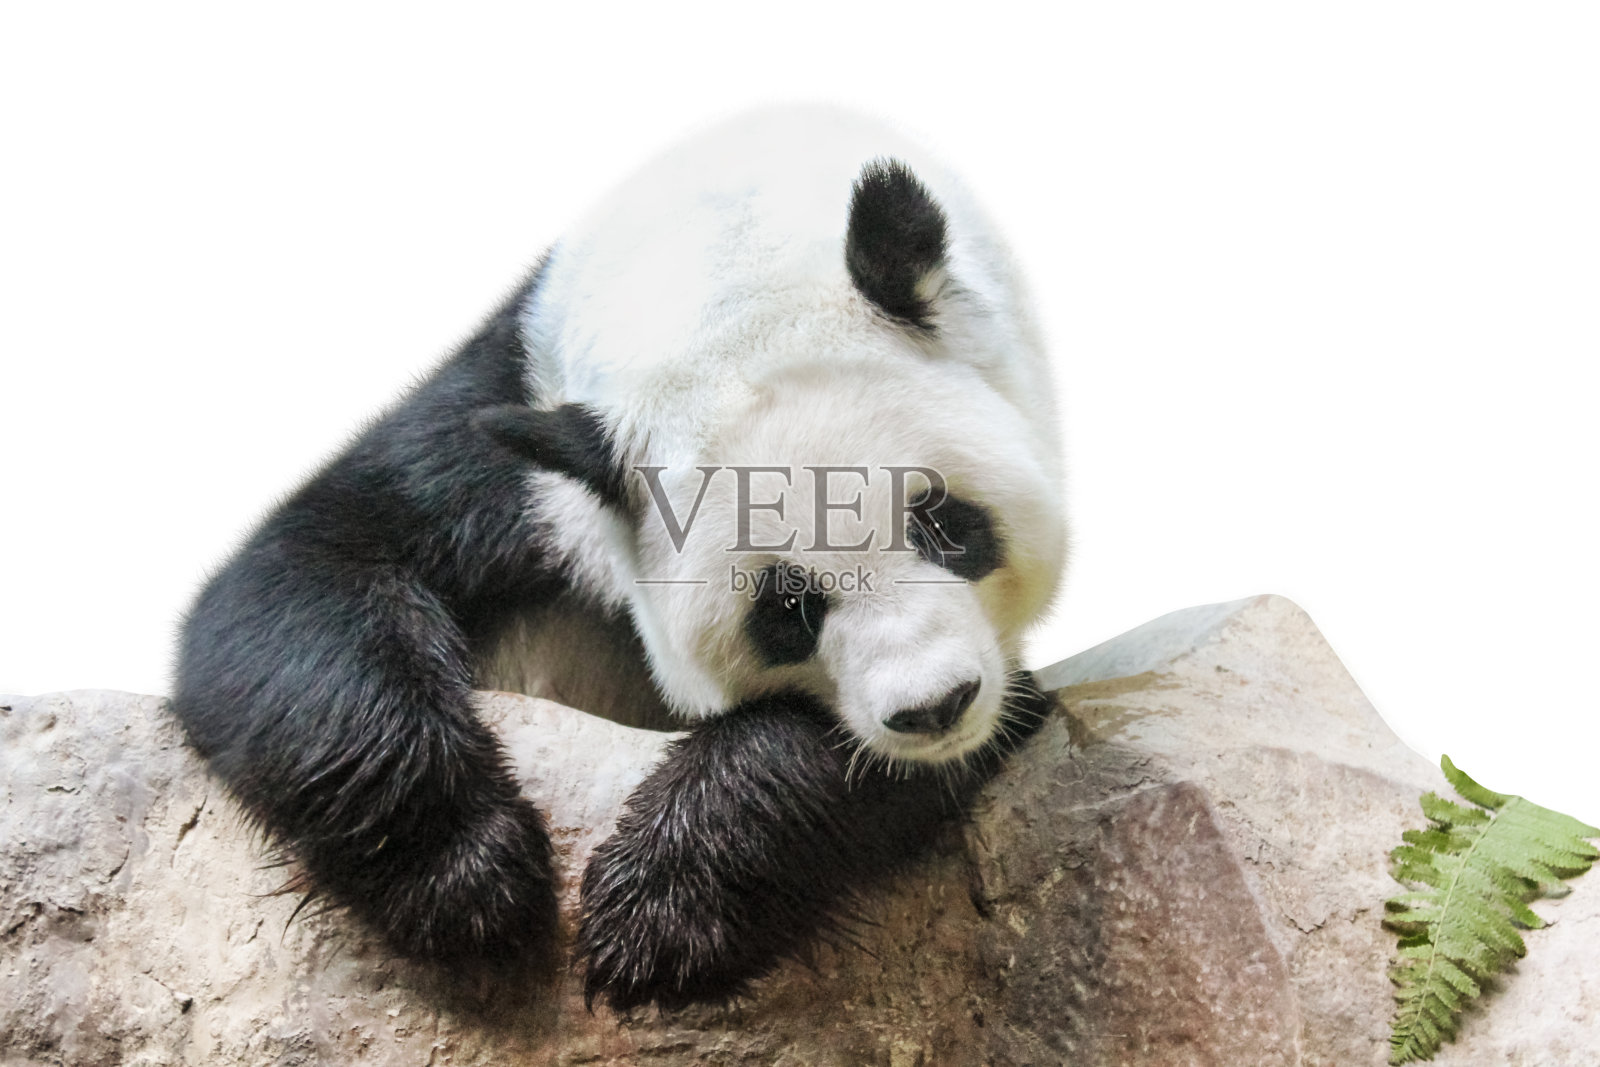panda: (160, 135, 1174, 987)
